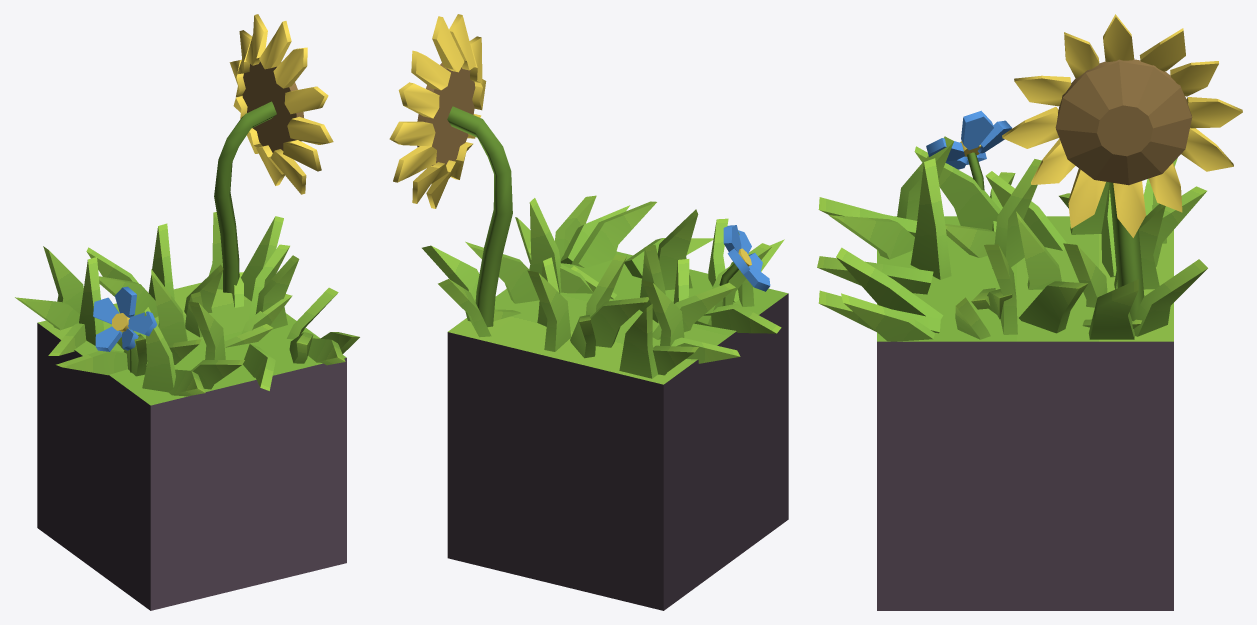
Rendered from tile_floor_nature_grass05.FBX.
3 views of the same model, side by side, from view 1: azimuth 30°, elevation 25°; view 2: azimuth 150°, elevation 25°; view 3: azimuth 270°, elevation 25° (orthographic). The views are drawn at different scales.
Visible parts, largest first — view 1: tile_floor_nature_grass05; view 2: tile_floor_nature_grass05; view 3: tile_floor_nature_grass05.
Boxes of the visible parts, bbox=[...] form: tile_floor_nature_grass05: bbox=[15, 14, 359, 610]; tile_floor_nature_grass05: bbox=[389, 14, 788, 610]; tile_floor_nature_grass05: bbox=[817, 14, 1242, 610].
Size of the model in its own units: 55.29 by 89.78 by 56.46.
